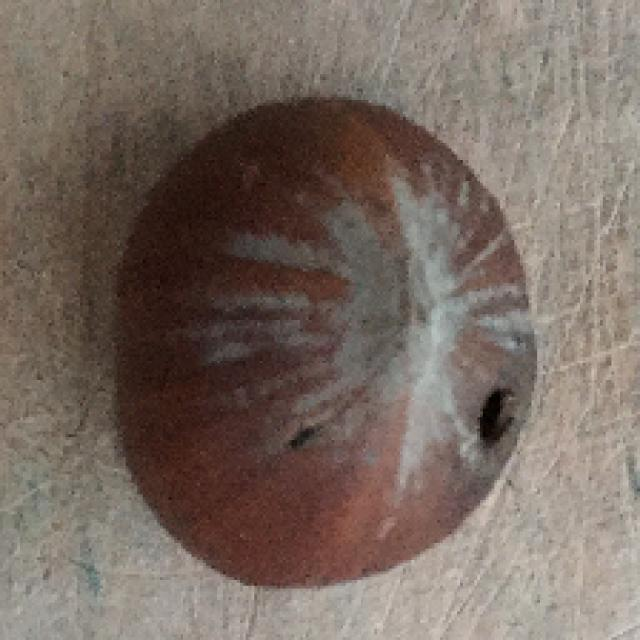damagedHazelnut: (102, 85, 547, 602)
